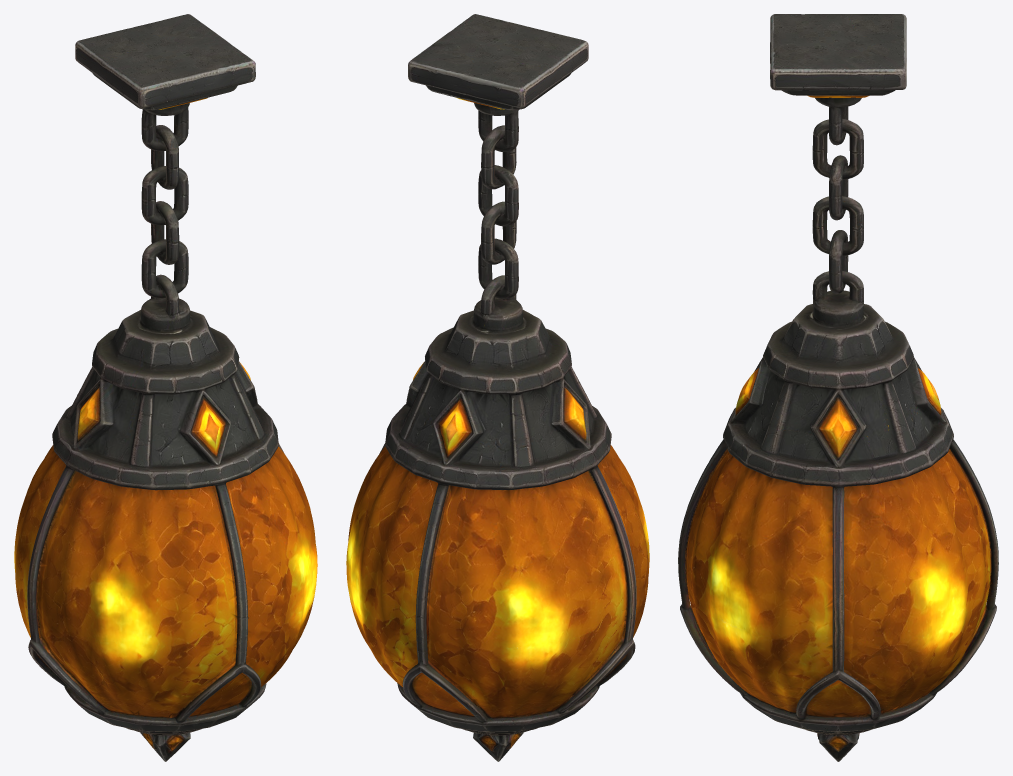
Rendered from pendant-lamp.glb.
3 renders of one model, left to right at view 1: azimuth 30°, elevation 25°; view 2: azimuth 150°, elevation 25°; view 3: azimuth 270°, elevation 25°, orthographic.
Visible parts, largest first — view 1: mesh_node; view 2: mesh_node; view 3: mesh_node.
Part boxes in pixels (x1,y1,x2,y2): mesh_node: [14, 14, 317, 761]; mesh_node: [346, 14, 649, 761]; mesh_node: [678, 14, 998, 761].
Size of the model in its own units: 0.7651 by 1.9 by 0.7656.
Materials: 1 (1 with a texture image).
